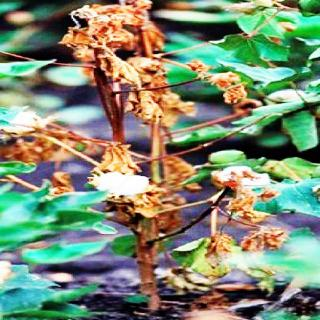wilt: (15, 15, 305, 305)
